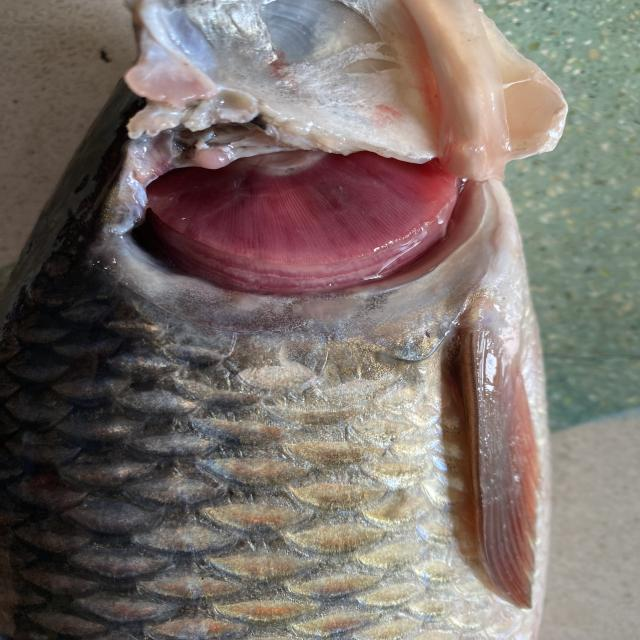Fresh: (121, 121, 488, 307)
